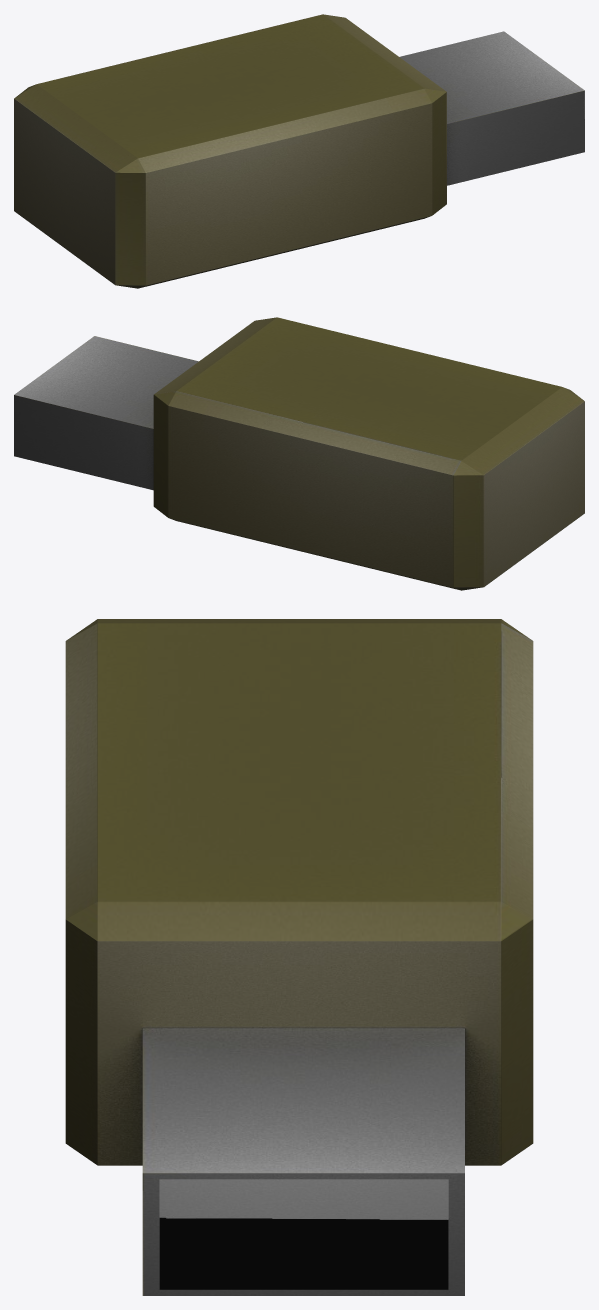
File: keypart2.dae
The picture shows the model from 3 angles, top to bottom: view 1: azimuth 30°, elevation 25°; view 2: azimuth 150°, elevation 25°; view 3: azimuth 270°, elevation 25°; orthographic projection. The views are drawn at different scales.
Visible parts, largest first — view 1: Cube; view 2: Cube; view 3: Cube.
Part boxes in pixels (<box>): Cube: <box>14,14,584,288</box>; Cube: <box>14,317,584,590</box>; Cube: <box>65,619,533,1295</box>.
Bounding box in the file's own units: 3.02 × 1.28 × 0.7814.
Materials: 1 (1 with a texture image).
